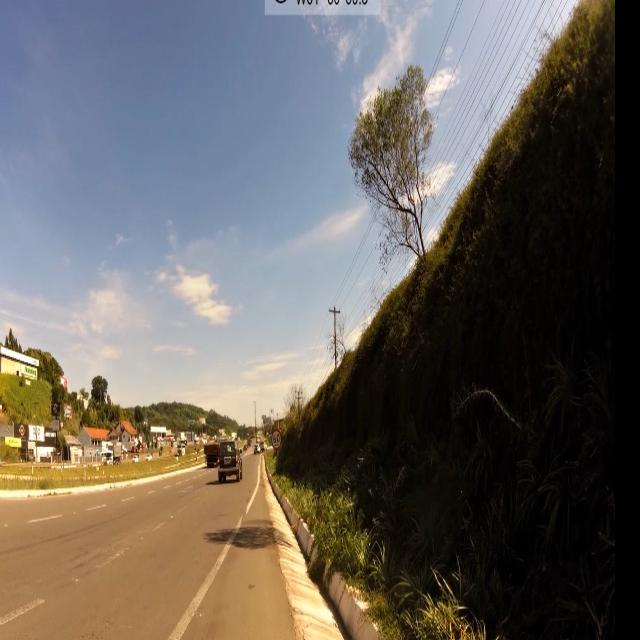R-19: (272, 430, 282, 451)
